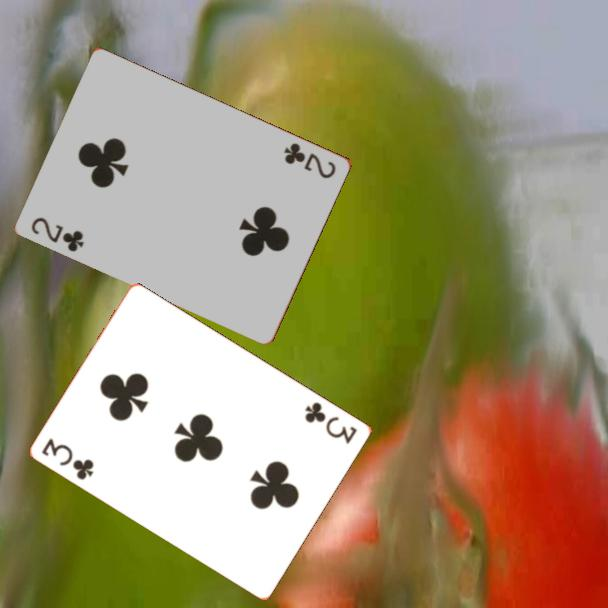c02: (28, 213, 87, 255), (281, 139, 339, 181)
c03: (301, 398, 360, 447), (38, 434, 97, 483)
